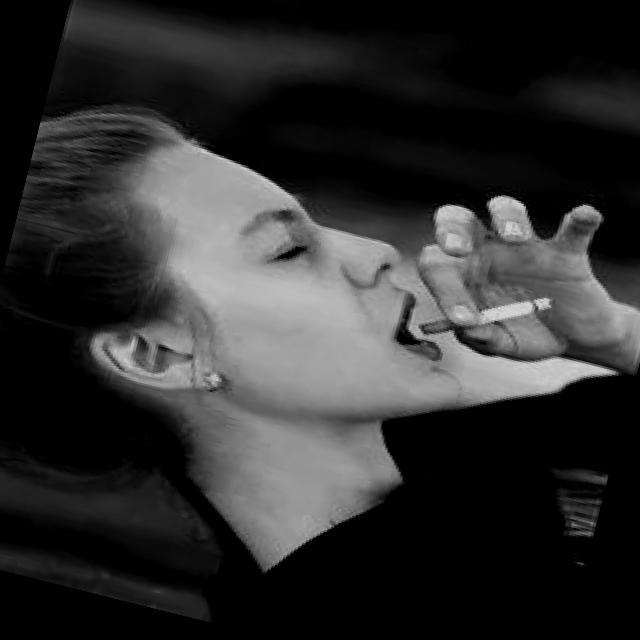cigarette: (414, 265, 560, 363)
